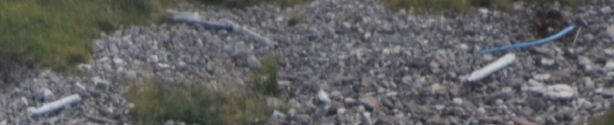straight_bar: (216, 10, 280, 52), (22, 87, 87, 125), (165, 7, 235, 38), (464, 50, 520, 87)
tube: (478, 22, 578, 54)
